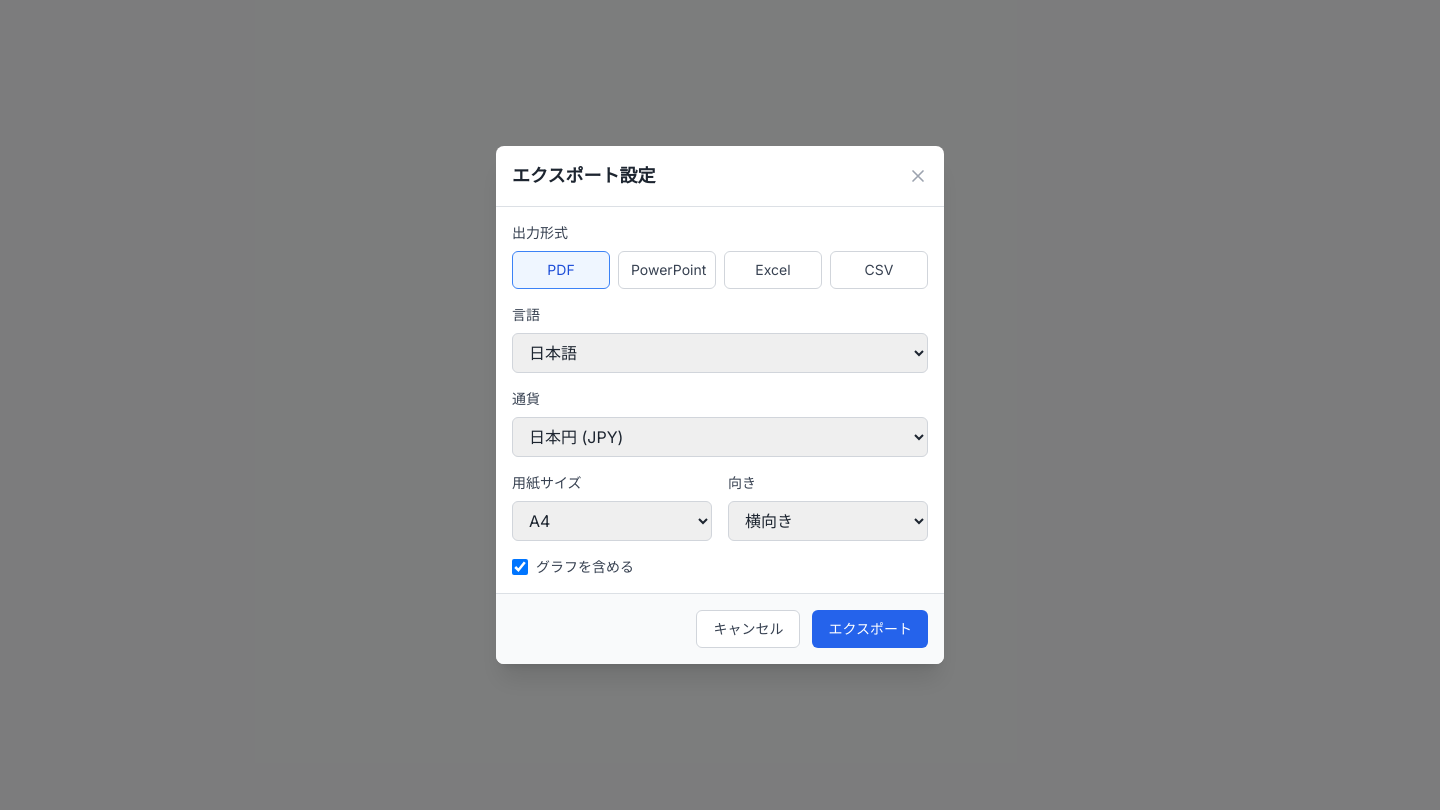
it: ExportModal › shows paper-size, orientation and chart options only for PDF
Expected: the text "用紙サイズ" is shown, [512,474,582,491]
Expected: the text "向き" is shown, [728,474,756,491]
Click the button "CSV" at (879, 270), box [830,251,928,289]
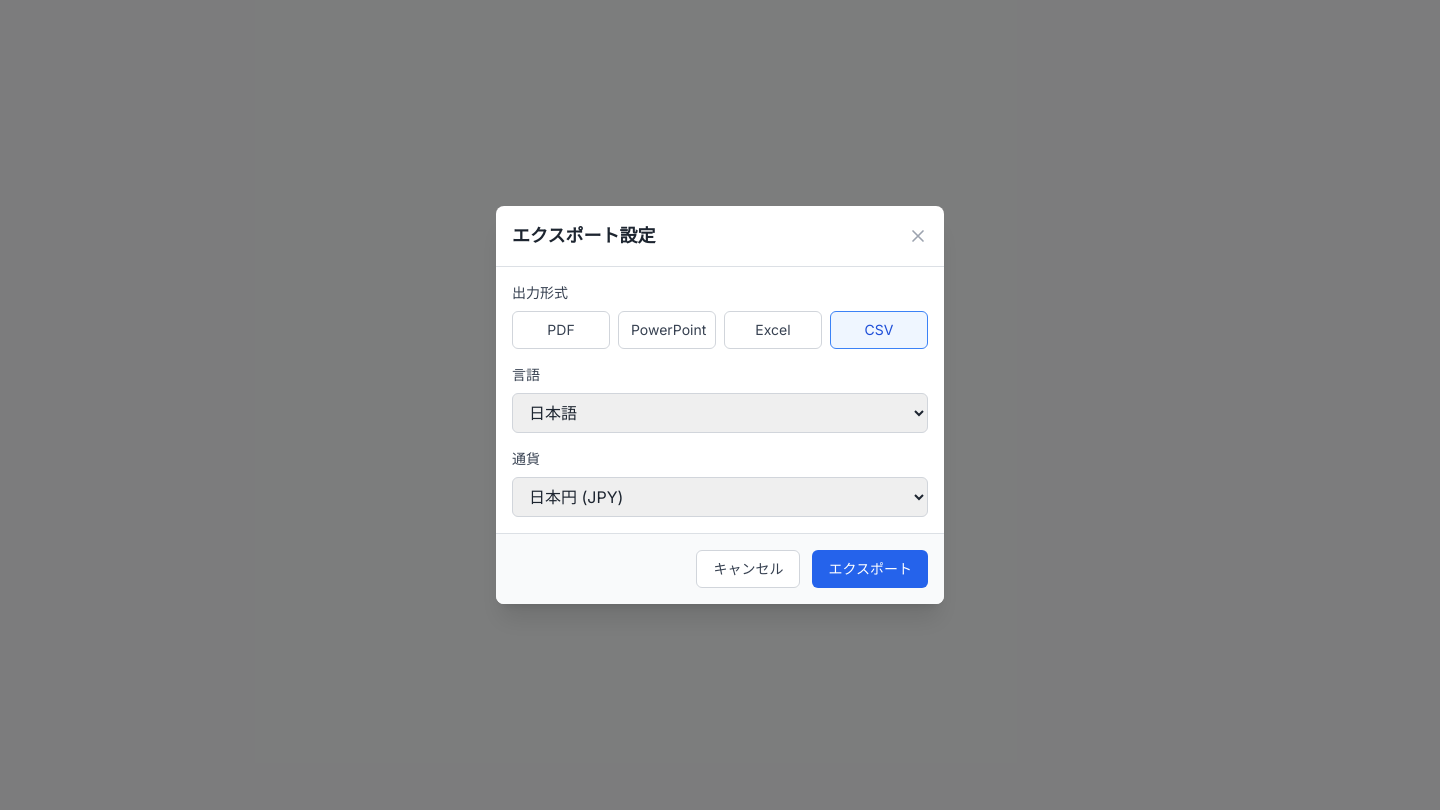
Expected: the text "用紙サイズ" is gone
Expected: the text "向き" is gone
Expected: the label labelled "グラフを含める" is gone
